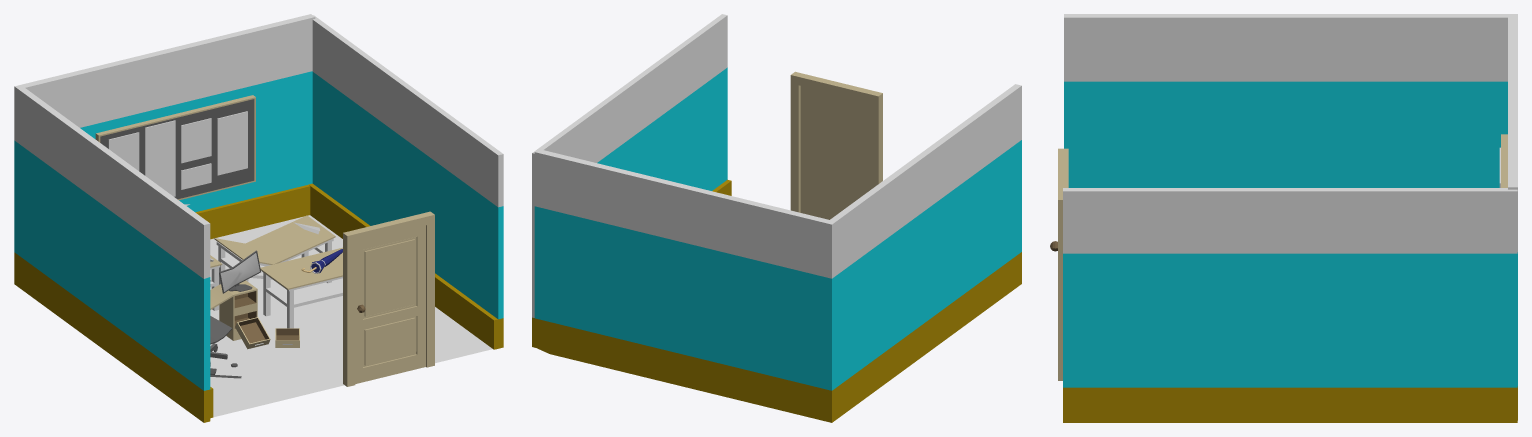
The model's file is ROOM4.fbx.
3 views of the same model, side by side, from view 1: azimuth 30°, elevation 25°; view 2: azimuth 150°, elevation 25°; view 3: azimuth 270°, elevation 25° (orthographic). The views are drawn at different scales.
Visible parts, largest first — view 1: pCube80, pCube342, floor, pCube216, pasted__pCube292, pCube3table1 (×2), pasted__pCube294, table1pCube1 (×2), pasted__pCube296, broken_table2, pasted__pCube295, pasted__monitor1 (+4 smaller); view 2: pCube80, pCube342, pCube216; view 3: pCube342, pCube80, pCube216.
Boxes of the visible parts, x1=… form: pCube80: x1=14, y1=14, x2=315, y2=422; pCube342: x1=308, y1=15, x2=503, y2=349; floor: x1=210, y1=215, x2=492, y2=417; pCube216: x1=343, y1=211, x2=434, y2=386; pasted__pCube292: x1=95, y1=95, x2=255, y2=200; pCube3table1 (×2): x1=214, y1=215, x2=342, y2=289; pasted__pCube294: x1=145, y1=120, x2=175, y2=196; table1pCube1 (×2): x1=216, y1=238, x2=342, y2=328; pasted__pCube296: x1=217, y1=111, x2=247, y2=175; broken_table2: x1=210, y1=280, x2=257, y2=340; pasted__pCube295: x1=181, y1=118, x2=211, y2=163; pasted__monitor1: x1=219, y1=250, x2=260, y2=293; pCube80: x1=534, y1=84, x2=1021, y2=422; pCube342: x1=532, y1=14, x2=731, y2=347; pCube216: x1=790, y1=71, x2=882, y2=219; pCube342: x1=1063, y1=188, x2=1517, y2=422; pCube80: x1=1064, y1=14, x2=1517, y2=420; pCube216: x1=1058, y1=148, x2=1068, y2=380.
Size of the model in its own units: 16.61 by 10.49 by 18.77.
